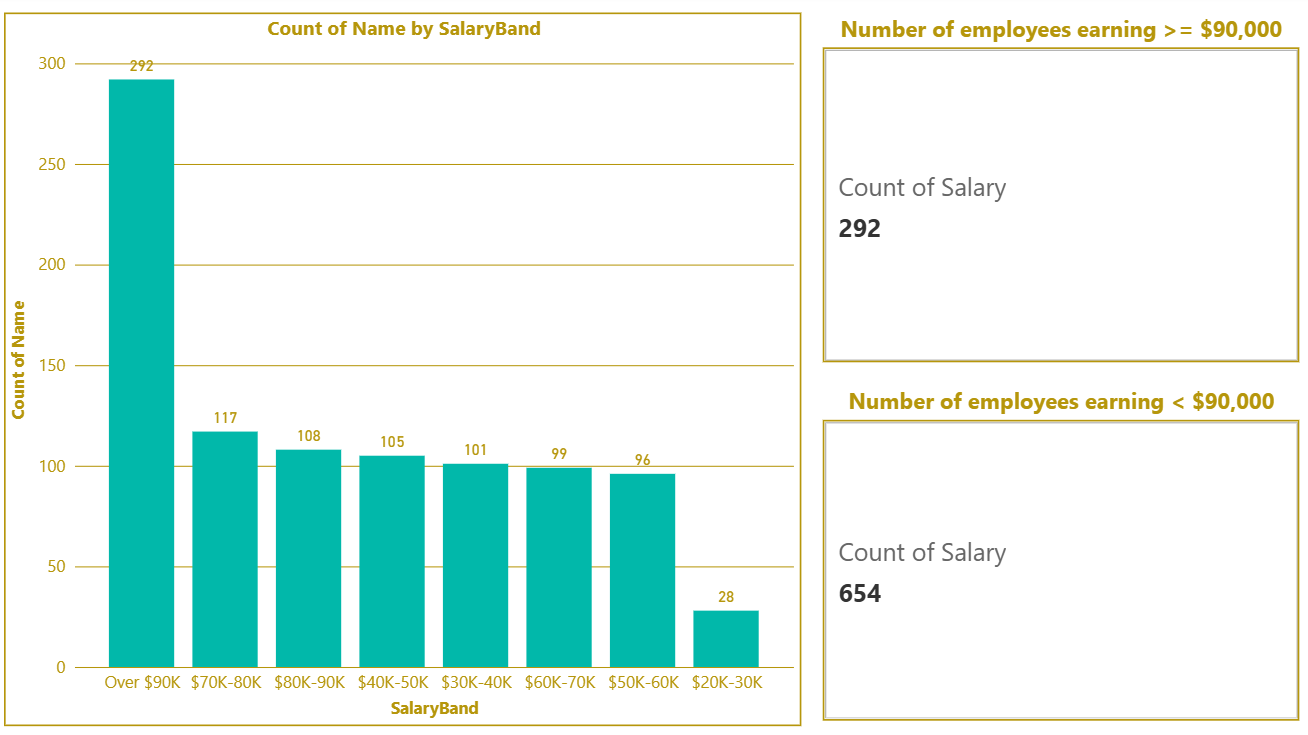

The dashboard page shown, as its layout file describes it:
{"tool":"powerbi","page":{"name":"Salary Band Chart","canvas":[1280,720],"ordinal":7},"visuals":[{"type":"columnChart","fields":{"Category":["Palmoria Group emp-data.SalaryBand"],"Y":["CountNonNull(Palmoria Group emp-data.Name)"]},"box":[0,17.3,787.7,688.2],"z":0},{"type":"cardVisual","title":"Number of employees earning >= $90,000","fields":{"Data":["CountNonNull(Palmoria Group emp-data.Salary)"]},"box":[799.3,17.3,470.3,343.4],"z":1000},{"type":"cardVisual","title":"Number of employees earning < $90,000","fields":{"Data":["CountNonNull(Palmoria Group emp-data.Salary)"]},"box":[799.3,376.6,470.3,328.9],"z":2000}]}

Visuals, with their boxes in screenshot pixels (x1, y1, x2, y2), scaled from the page's 1280x720 canvas onto the 1308x735 screenshot:
columnChart - Palmoria Group emp-data.SalaryBand x CountNonNull(Palmoria Group emp-data.Name): (0,18,805,720)
"Number of employees earning >= $90,000" cardVisual: (817,18,1297,368)
"Number of employees earning < $90,000" cardVisual: (817,384,1297,720)
